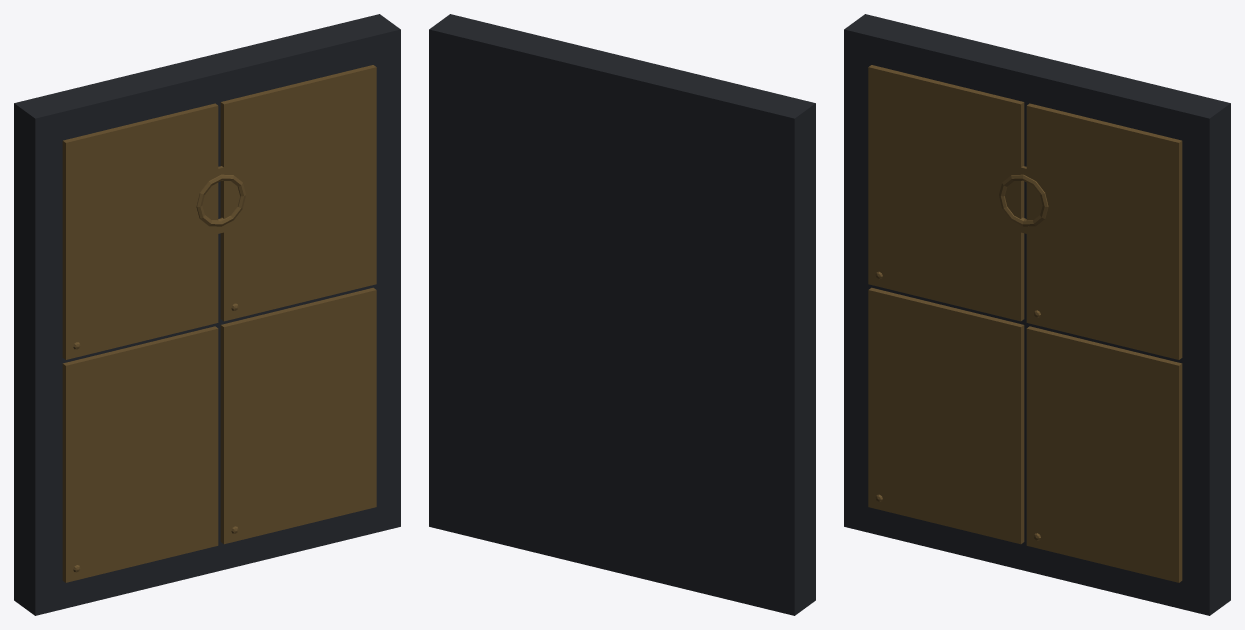
File: SM_Wall_DvergrPlate_08_Straight.glb
3 renders of one model, left to right at view 1: azimuth 30°, elevation 25°; view 2: azimuth 150°, elevation 25°; view 3: azimuth 330°, elevation 25°, orthographic.
Visible parts, largest first — view 1: SM_Wall_DvergrPlate_08_Straight_Panel, SM_Wall_DvergrPlate_08_Straight_Plate1, SM_Wall_DvergrPlate_08_Straight_Plate0, SM_Wall_DvergrPlate_08_Straight_Plate2, SM_Wall_DvergrPlate_08_Straight_Plate3, SM_Wall_DvergrPlate_08_Straight_Gear; view 2: SM_Wall_DvergrPlate_08_Straight_Panel; view 3: SM_Wall_DvergrPlate_08_Straight_Panel, SM_Wall_DvergrPlate_08_Straight_Plate0, SM_Wall_DvergrPlate_08_Straight_Plate1, SM_Wall_DvergrPlate_08_Straight_Plate3, SM_Wall_DvergrPlate_08_Straight_Plate2, SM_Wall_DvergrPlate_08_Straight_Gear.
Boxes of the visible parts, <box> form: SM_Wall_DvergrPlate_08_Straight_Panel: <box>14,14,400,615</box>; SM_Wall_DvergrPlate_08_Straight_Plate1: <box>220,287,376,544</box>; SM_Wall_DvergrPlate_08_Straight_Plate0: <box>62,326,218,582</box>; SM_Wall_DvergrPlate_08_Straight_Plate2: <box>62,103,218,359</box>; SM_Wall_DvergrPlate_08_Straight_Plate3: <box>220,65,376,321</box>; SM_Wall_DvergrPlate_08_Straight_Gear: <box>196,174,245,226</box>; SM_Wall_DvergrPlate_08_Straight_Panel: <box>429,14,815,615</box>; SM_Wall_DvergrPlate_08_Straight_Panel: <box>844,14,1230,615</box>; SM_Wall_DvergrPlate_08_Straight_Plate0: <box>868,287,1024,544</box>; SM_Wall_DvergrPlate_08_Straight_Plate1: <box>1026,326,1182,582</box>; SM_Wall_DvergrPlate_08_Straight_Plate3: <box>1026,103,1182,359</box>; SM_Wall_DvergrPlate_08_Straight_Plate2: <box>868,65,1024,321</box>; SM_Wall_DvergrPlate_08_Straight_Gear: <box>999,174,1048,226</box>.
Bounding box in the file's own units: 2 × 2.6 × 0.243.
